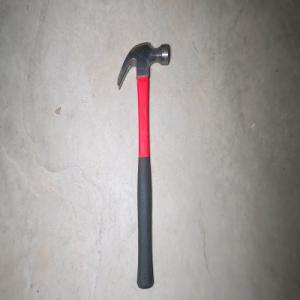Hammer: (116, 41, 169, 290)
